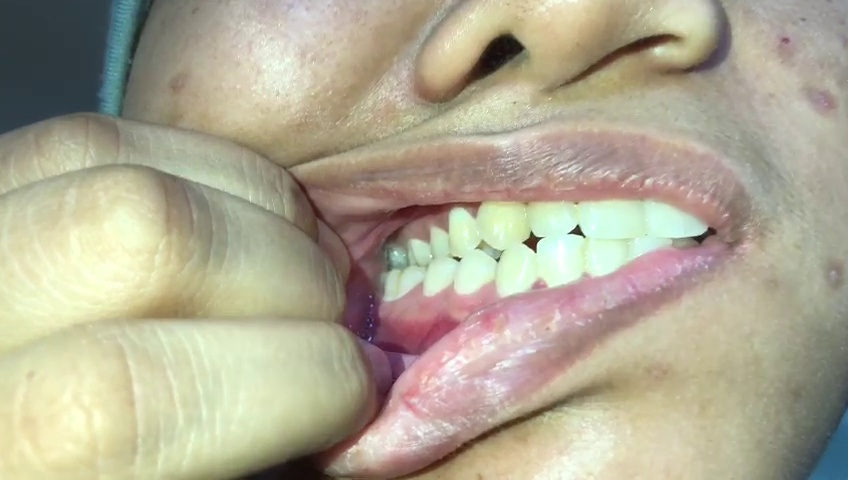1st Molar: (396, 266, 424, 299), (407, 238, 428, 269)
1st Premolar: (455, 250, 496, 297), (448, 206, 479, 259)
2nd Molar: (384, 268, 400, 302), (387, 243, 409, 265)
2nd Premolar: (425, 256, 456, 297), (427, 226, 451, 262)
Canine: (476, 195, 532, 249), (495, 245, 536, 299)
Lateral Incisor: (536, 234, 583, 291)
